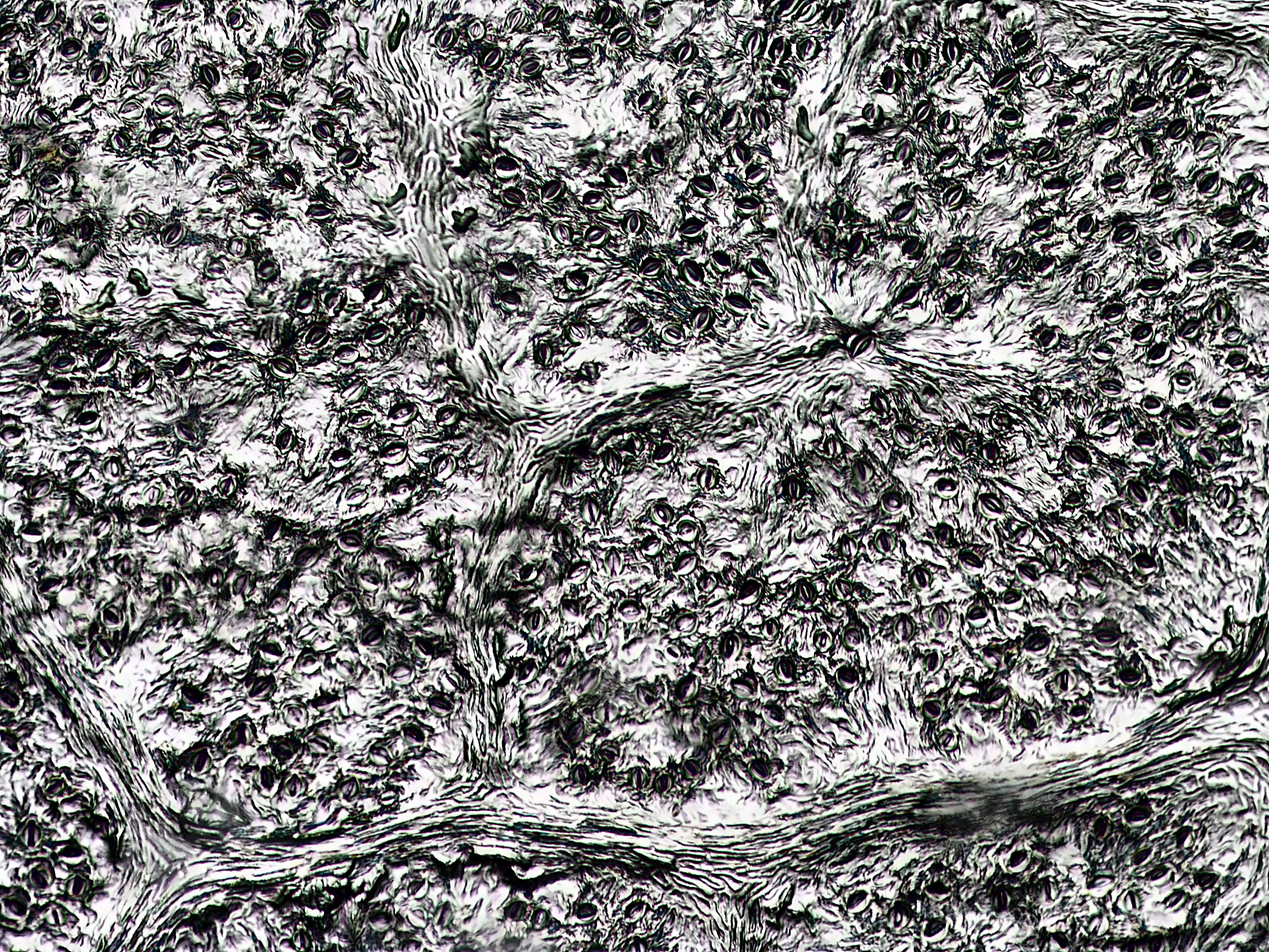stomata: (171, 417, 208, 445), (890, 279, 923, 310), (0, 891, 30, 925), (42, 902, 73, 934), (1034, 873, 1063, 907), (71, 215, 102, 246), (974, 492, 1009, 519), (177, 683, 210, 711), (740, 26, 767, 60), (676, 258, 706, 288), (1168, 468, 1195, 501), (1094, 301, 1127, 328), (1107, 220, 1140, 247), (373, 441, 408, 466), (1161, 503, 1191, 532), (431, 23, 460, 53), (254, 637, 284, 666), (98, 601, 128, 630), (717, 631, 744, 663), (574, 667, 601, 699), (1169, 411, 1201, 438), (5, 144, 32, 176), (919, 915, 951, 942), (941, 429, 967, 462), (263, 355, 297, 380), (734, 577, 764, 605), (1021, 630, 1051, 658), (237, 206, 272, 230), (847, 328, 874, 359), (300, 324, 331, 351), (231, 569, 257, 601), (717, 107, 746, 135), (865, 389, 895, 416), (941, 182, 968, 212), (988, 883, 1015, 913), (559, 318, 590, 344), (361, 908, 396, 931), (634, 680, 659, 712), (535, 178, 567, 203), (1063, 445, 1096, 469), (1084, 340, 1117, 364), (568, 900, 601, 924), (1126, 479, 1155, 506), (1092, 411, 1121, 438), (889, 199, 918, 226), (745, 256, 774, 283), (267, 733, 296, 760), (26, 864, 55, 891), (1002, 847, 1031, 874), (795, 34, 821, 64), (89, 347, 119, 373), (1173, 825, 1203, 851), (926, 603, 951, 634), (19, 820, 44, 851), (888, 424, 916, 451), (1033, 326, 1060, 354), (670, 39, 697, 67), (279, 45, 306, 73), (1191, 170, 1220, 196), (434, 403, 463, 429), (357, 624, 386, 650), (158, 221, 187, 247), (1087, 814, 1113, 843), (842, 888, 871, 914), (988, 67, 1018, 92), (764, 73, 794, 98), (127, 370, 157, 395), (130, 512, 164, 534), (690, 304, 714, 335), (327, 594, 358, 618), (0, 247, 31, 271), (292, 545, 323, 569), (385, 401, 417, 424), (189, 748, 212, 780), (339, 484, 374, 505), (919, 880, 954, 901), (1171, 226, 1198, 253), (1168, 61, 1195, 88), (247, 674, 274, 701), (694, 464, 722, 490), (995, 252, 1023, 278), (548, 221, 576, 247), (491, 257, 519, 283), (429, 453, 457, 479), (260, 516, 286, 544), (886, 901, 912, 929), (1089, 626, 1122, 648), (1211, 418, 1244, 440), (720, 292, 753, 314), (1026, 215, 1056, 239), (600, 164, 630, 188), (532, 339, 556, 369), (391, 600, 427, 620), (385, 661, 415, 685), (431, 900, 455, 930), (1090, 376, 1124, 397), (339, 379, 370, 402), (198, 258, 230, 280), (1035, 174, 1072, 193), (1007, 522, 1034, 548), (620, 210, 646, 237), (274, 165, 301, 191), (91, 634, 118, 660), (1191, 443, 1219, 468), (707, 248, 735, 273), (6, 203, 34, 228), (1117, 887, 1145, 912), (1082, 873, 1117, 893), (581, 223, 610, 247), (636, 287, 669, 308), (305, 202, 338, 223), (1121, 804, 1154, 825), (917, 856, 950, 877), (768, 36, 791, 66), (688, 174, 718, 197), (34, 170, 64, 193), (255, 765, 278, 795), (491, 156, 522, 178), (515, 658, 540, 685), (761, 701, 788, 726), (633, 87, 658, 114), (501, 6, 526, 33), (255, 257, 282, 282), (100, 454, 125, 481), (1167, 371, 1199, 392), (676, 217, 704, 241), (636, 254, 664, 278), (302, 7, 330, 31), (116, 97, 144, 121), (5, 62, 33, 86), (274, 428, 298, 456), (47, 353, 79, 374), (155, 570, 179, 598), (62, 874, 90, 898), (1129, 552, 1158, 575), (1014, 563, 1043, 586), (939, 35, 962, 64), (681, 91, 710, 114), (497, 185, 526, 208), (566, 45, 595, 68), (517, 57, 546, 80), (353, 568, 382, 591), (993, 106, 1023, 128), (750, 103, 772, 133), (326, 82, 356, 104), (212, 173, 242, 195), (71, 411, 104, 431), (1126, 845, 1156, 867), (336, 684, 357, 715), (56, 843, 87, 864), (812, 900, 843, 921), (1025, 384, 1051, 409), (889, 137, 914, 163), (878, 67, 904, 92), (903, 46, 929, 71), (641, 3, 666, 29), (464, 19, 490, 44), (309, 118, 335, 143), (147, 126, 173, 151), (169, 357, 196, 381), (281, 701, 308, 725), (621, 899, 648, 923), (553, 525, 576, 553), (710, 719, 733, 747), (481, 45, 504, 73), (202, 564, 225, 592), (602, 546, 624, 575), (978, 647, 1007, 669), (387, 478, 416, 500), (15, 521, 44, 543), (602, 446, 623, 476), (1041, 544, 1062, 574), (577, 190, 607, 211), (235, 717, 256, 747), (256, 92, 289, 111), (673, 674, 698, 699), (671, 551, 697, 575), (1031, 253, 1057, 277), (938, 244, 962, 270), (899, 235, 925, 259), (405, 904, 431, 928), (1227, 512, 1250, 539), (1233, 172, 1260, 195), (918, 698, 946, 720), (1075, 572, 1103, 594), (940, 295, 968, 317), (733, 194, 761, 216), (389, 567, 417, 589), (427, 695, 455, 717), (366, 745, 394, 767), (493, 290, 522, 311), (199, 122, 231, 141), (1099, 503, 1123, 528), (1214, 481, 1234, 511), (1183, 258, 1213, 278), (1029, 63, 1053, 88), (847, 232, 867, 262), (775, 658, 798, 684), (958, 551, 984, 574), (982, 686, 1008, 709), (1031, 140, 1057, 163), (361, 283, 387, 306), (637, 535, 664, 557), (564, 561, 591, 583), (690, 641, 712, 668), (1230, 230, 1257, 252), (575, 363, 602, 385), (336, 147, 363, 169), (197, 64, 224, 86), (56, 39, 83, 61), (66, 95, 93, 117), (342, 409, 375, 427), (311, 690, 338, 712), (1159, 890, 1186, 912), (615, 599, 643, 620), (1093, 117, 1121, 138), (824, 2, 845, 30), (595, 3, 616, 31), (579, 494, 599, 523), (1114, 667, 1143, 687), (1214, 206, 1243, 226), (1128, 94, 1157, 114), (332, 345, 361, 365), (399, 725, 428, 745), (224, 5, 248, 29), (409, 636, 433, 660), (1146, 862, 1170, 886), (1193, 134, 1218, 157), (1011, 29, 1034, 54), (499, 900, 524, 923), (1193, 869, 1218, 892), (793, 577, 815, 603), (833, 665, 859, 687), (563, 718, 585, 744), (1075, 212, 1097, 238), (934, 147, 960, 169), (538, 5, 564, 27), (589, 611, 608, 641), (1183, 84, 1213, 103), (837, 533, 858, 560), (595, 698, 616, 725), (1146, 182, 1173, 203), (1065, 72, 1092, 93), (623, 316, 650, 337), (173, 486, 200, 507), (526, 607, 546, 635), (931, 477, 959, 497), (362, 322, 390, 342), (334, 531, 362, 551), (0, 681, 20, 709), (558, 598, 582, 621), (908, 566, 931, 590), (1053, 668, 1077, 691), (1018, 709, 1041, 733), (1144, 340, 1168, 363), (86, 62, 110, 85), (33, 1, 56, 25), (323, 289, 346, 313), (292, 291, 315, 315), (214, 474, 237, 498), (1220, 351, 1249, 370), (980, 147, 1009, 166), (37, 294, 66, 313), (672, 611, 697, 633), (963, 605, 988, 627), (1207, 298, 1229, 323), (660, 323, 685, 345), (6, 305, 31, 327), (852, 457, 873, 483), (1072, 392, 1093, 418), (729, 141, 750, 167), (561, 271, 587, 292), (56, 141, 82, 162), (404, 302, 425, 328), (1044, 929, 1070, 950), (30, 108, 57, 128), (294, 622, 317, 645), (651, 503, 673, 527), (878, 490, 902, 512), (829, 579, 853, 601), (746, 759, 770, 781), (921, 651, 943, 675), (646, 145, 668, 169), (610, 26, 634, 48), (744, 164, 769, 185), (28, 478, 53, 499), (1136, 276, 1165, 294), (893, 615, 913, 641), (1175, 321, 1201, 341), (328, 448, 354, 468), (45, 377, 75, 394), (811, 630, 833, 653), (861, 101, 883, 124), (874, 530, 895, 554), (979, 441, 1000, 465), (1129, 323, 1153, 344), (650, 444, 675, 464), (933, 522, 953, 547), (1208, 395, 1233, 415), (125, 211, 150, 231), (815, 225, 834, 251), (129, 64, 148, 90), (0, 426, 26, 445), (202, 340, 231, 357), (1052, 113, 1079, 131), (36, 576, 63, 594), (402, 878, 429, 896), (571, 764, 593, 786), (440, 670, 462, 692), (823, 433, 844, 456), (987, 411, 1010, 432), (227, 235, 248, 258), (1133, 134, 1153, 158), (1168, 118, 1188, 142), (937, 110, 957, 134), (1081, 268, 1100, 293), (63, 459, 88, 478), (1067, 704, 1093, 722), (954, 677, 980, 695), (153, 94, 179, 112), (307, 736, 333, 754), (22, 761, 48, 779), (677, 519, 699, 540), (936, 730, 957, 752), (35, 217, 57, 238), (91, 517, 112, 539), (527, 909, 549, 930), (289, 928, 310, 950), (1139, 395, 1162, 415), (830, 201, 850, 224), (1100, 173, 1127, 190), (653, 771, 672, 795), (628, 766, 647, 790), (239, 60, 263, 79), (783, 475, 800, 501), (42, 774, 64, 794), (1000, 591, 1024, 609), (1130, 431, 1154, 449), (729, 680, 754, 697), (552, 649, 572, 670), (843, 627, 863, 648), (761, 617, 780, 639), (662, 643, 684, 662), (1142, 246, 1164, 265), (1221, 327, 1244, 345), (115, 554, 133, 577), (244, 140, 268, 157), (287, 774, 302, 801), (502, 640, 527, 656), (681, 759, 701, 779), (341, 776, 357, 801), (0, 731, 20, 751), (797, 0, 816, 21), (155, 37, 174, 58), (143, 485, 162, 506), (52, 539, 71, 560), (625, 433, 642, 456), (109, 133, 129, 152), (696, 573, 717, 591), (913, 100, 931, 121), (0, 21, 18, 42), (163, 612, 185, 629), (596, 743, 617, 760), (518, 564, 537, 582), (1063, 491, 1085, 506)
